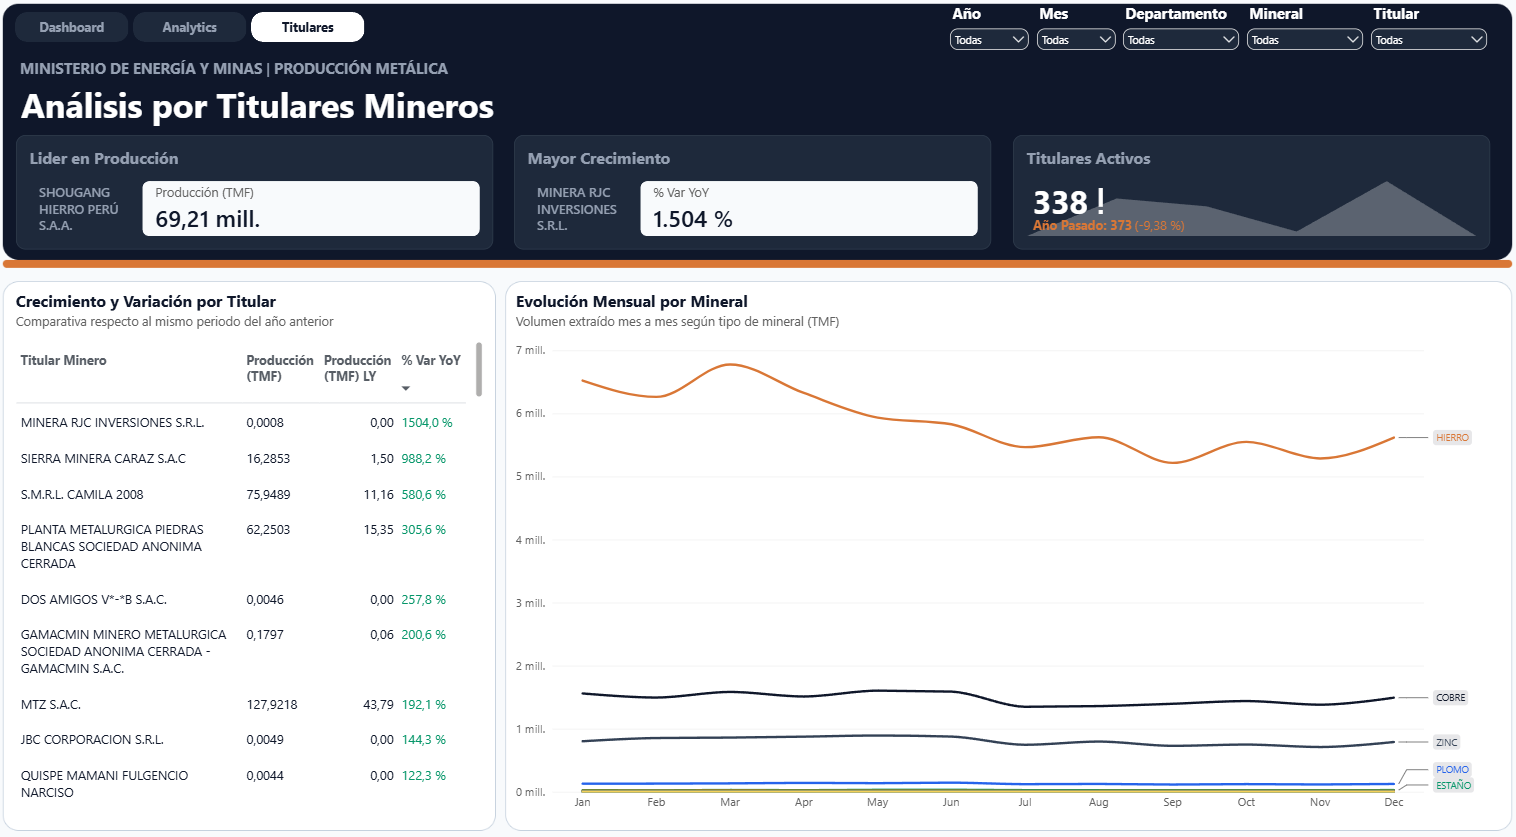

Layout of this report page (visuals, bound fields, positions):
{"tool":"powerbi","page":{"name":"Titulares","canvas":[1920,1080],"ordinal":2},"visuals":[{"type":"textbox","box":[32.9,84.3,701.4,28.6],"z":0},{"type":"textbox","box":[34.3,112.9,705.7,64.3],"z":1000},{"type":"shape","box":[26.9,26.5,142.6,37.7],"z":2000},{"type":"shape","box":[174.9,26.5,142.6,37.7],"z":3000},{"type":"shape","box":[322.9,26.5,142.6,37.7],"z":4000},{"type":"lineChart","title":"Evolución Mensual por Mineral","fields":{"Category":["DIM_TIEMPO.Mes Corto"],"Series":["DIM_MINERAL.MINERAL"],"Y":["MEDIDAS.Producción (TMF)"]},"box":[640,361.4,1267.1,690],"z":5000},{"type":"tableEx","title":"Crecimiento y Variación por Titular","fields":{"Values":["DIM_EMPRESA.TITULAR","MEDIDAS.Produccion Total","MEDIDAS.Producción (TMF) LY","MEDIDAS.% Variación"]},"box":[11.4,361.4,618.6,690],"z":6000},{"type":"cardVisual","title":"Lider en Producción","fields":{"Data":["MEDIDAS.Producción (TMF)"],"Rows":["DIM_EMPRESA.TITULAR"]},"box":[27.1,181.4,600,144.3],"z":7000},{"type":"cardVisual","title":"Mayor Crecimiento","fields":{"Data":["MEDIDAS.% Var YoY"],"Rows":["DIM_EMPRESA.TITULAR"]},"box":[654.3,181.4,600,144.3],"z":8000},{"type":"kpi","title":"Titulares Activos","fields":{"Goal":["MEDIDAS.Titulares Activos LY"],"Indicator":["MEDIDAS.Titulares Activos"],"TrendLine":["DIM_TIEMPO.Año"]},"box":[1281.4,181.4,600,144.3],"z":9000},{"type":"slicer","fields":{"Values":["DIM_TIEMPO.Año"]},"box":[1197.1,15.7,108.6,60],"z":10000},{"type":"slicer","fields":{"Values":["DIM_TIEMPO.Mes Corto"]},"box":[1305.7,15.7,108.6,60],"z":11000},{"type":"slicer","fields":{"Values":["DIM_UBICACION.DEPARTAMENTO"]},"box":[1414.3,15.7,155.7,60],"z":12000},{"type":"slicer","fields":{"Values":["DIM_MINERAL.MINERAL"]},"box":[1570,15.7,155.7,60],"z":13000},{"type":"slicer","fields":{"Values":["DIM_EMPRESA.TITULAR"]},"box":[1725.7,15.7,155.7,60],"z":14000}]}

Visuals, with their boxes in screenshot pixels (x1, y1, x2, y2), scaled from the page's 1920x1080 canvas onto the 1516x837 screenshot:
textbox: <bbox>26, 65, 580, 87</bbox>
textbox: <bbox>27, 87, 584, 137</bbox>
shape: <bbox>21, 21, 134, 50</bbox>
shape: <bbox>138, 21, 251, 50</bbox>
shape: <bbox>255, 21, 368, 50</bbox>
"Evolución Mensual por Mineral" lineChart: <bbox>505, 280, 1506, 815</bbox>
"Crecimiento y Variación por Titular" tableEx: <bbox>9, 280, 497, 815</bbox>
"Lider en Producción" cardVisual: <bbox>21, 141, 495, 252</bbox>
"Mayor Crecimiento" cardVisual: <bbox>517, 141, 990, 252</bbox>
"Titulares Activos" kpi: <bbox>1012, 141, 1486, 252</bbox>
slicer - DIM_TIEMPO.Año: <bbox>945, 12, 1031, 59</bbox>
slicer - DIM_TIEMPO.Mes Corto: <bbox>1031, 12, 1117, 59</bbox>
slicer - DIM_UBICACION.DEPARTAMENTO: <bbox>1117, 12, 1240, 59</bbox>
slicer - DIM_MINERAL.MINERAL: <bbox>1240, 12, 1363, 59</bbox>
slicer - DIM_EMPRESA.TITULAR: <bbox>1363, 12, 1486, 59</bbox>
